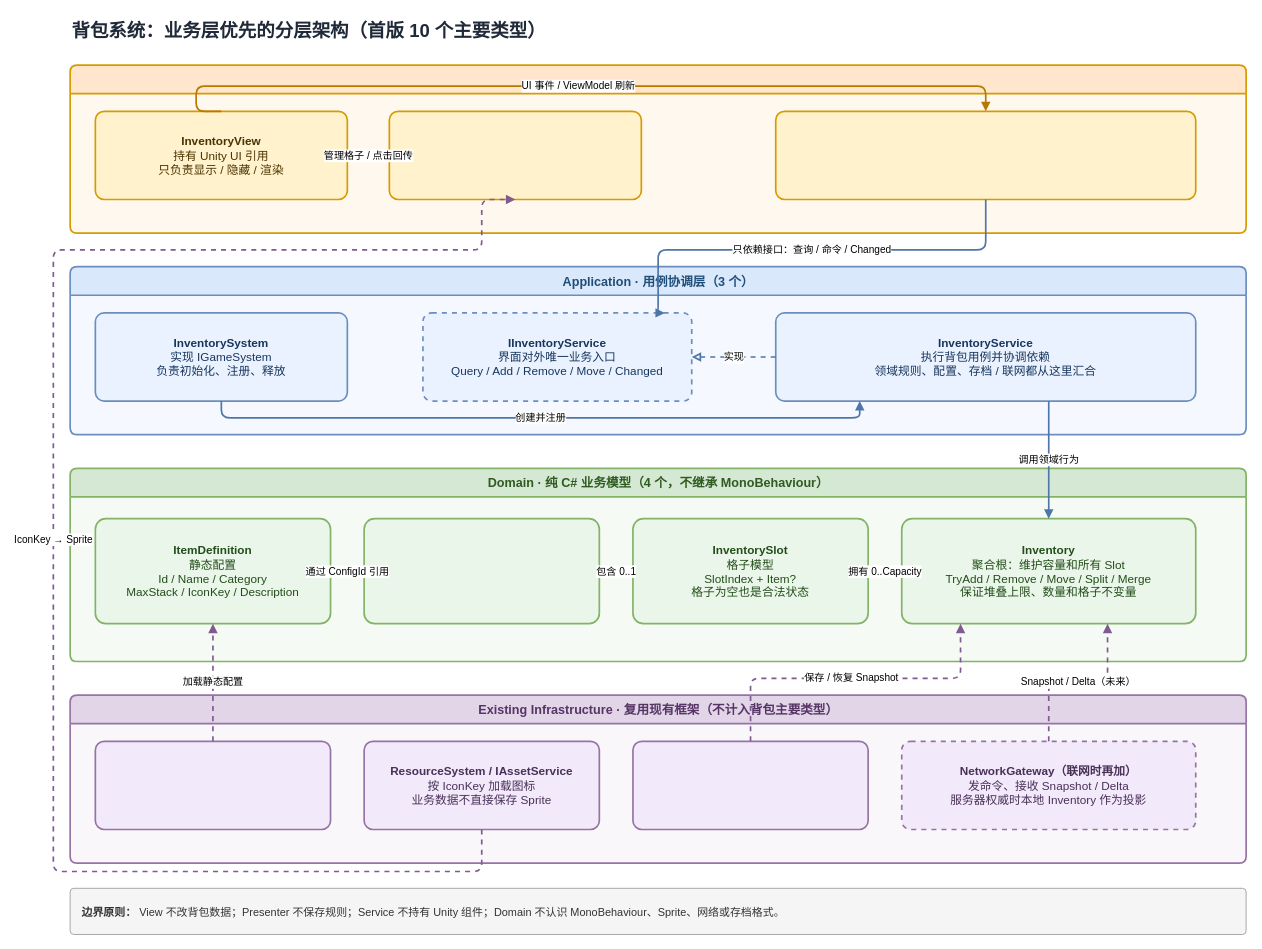
Image size: 1262x949. Some labels were removed from this diagram. Each missing label, with the box of its shape:
ConfigSystem / IConfigService 读取 ItemDefinition 避免把配置硬编码到业务层: (94, 740, 331, 830)
InventoryItem 运行时物品栈 InstanceId / ConfigId / Count 可选：耐久、绑定状态等实例数据: (363, 517, 600, 624)
InventoryPresenter 响应 UI 事件、查询 Service 分类 / 排序 / 选择状态 / 刷新 View: (774, 110, 1196, 200)
ItemCellView 绑定一个格子的数据 上报点击，不判断业务规则: (388, 110, 642, 200)
Presentation · Unity 展示层（3 个）: (69, 64, 1247, 234)
SaveSystem / ISaveService 离线保存 InventorySnapshot 只保存运行时数据和配置 Id: (632, 740, 869, 830)
